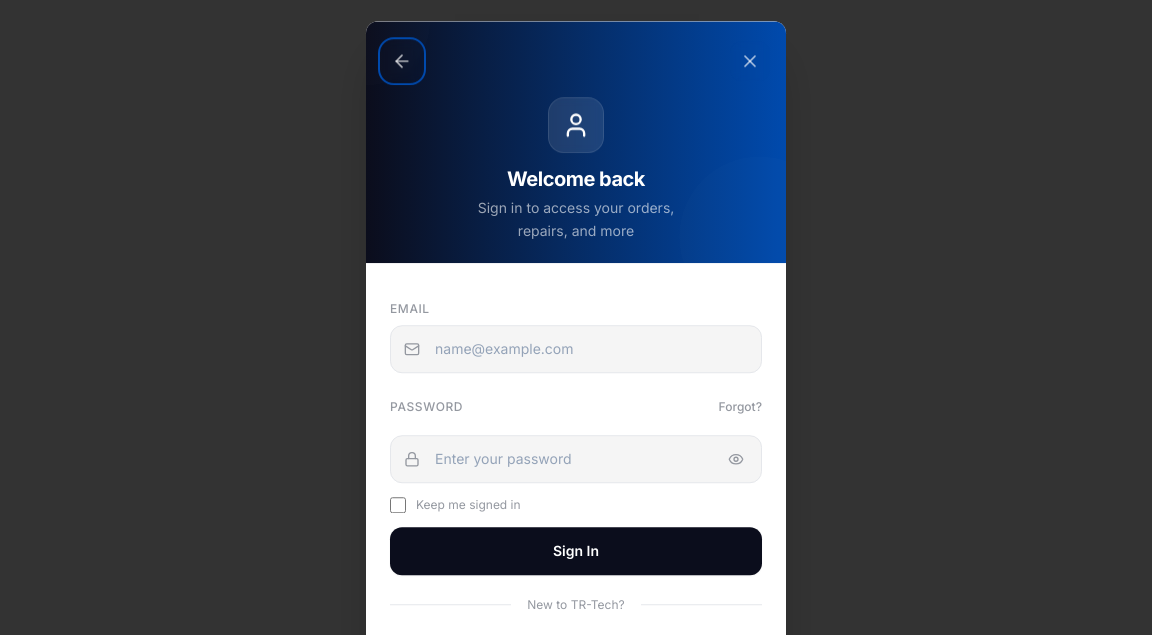
Scenario: AuthModal › shows validation error for empty email
Submit without filling any fields — triggers inline validation
What coordinates should you click on to do the following:
click the button with test id "auth-submit"
I would click on:
 (576, 551)
Its box is [390,527,762,575].
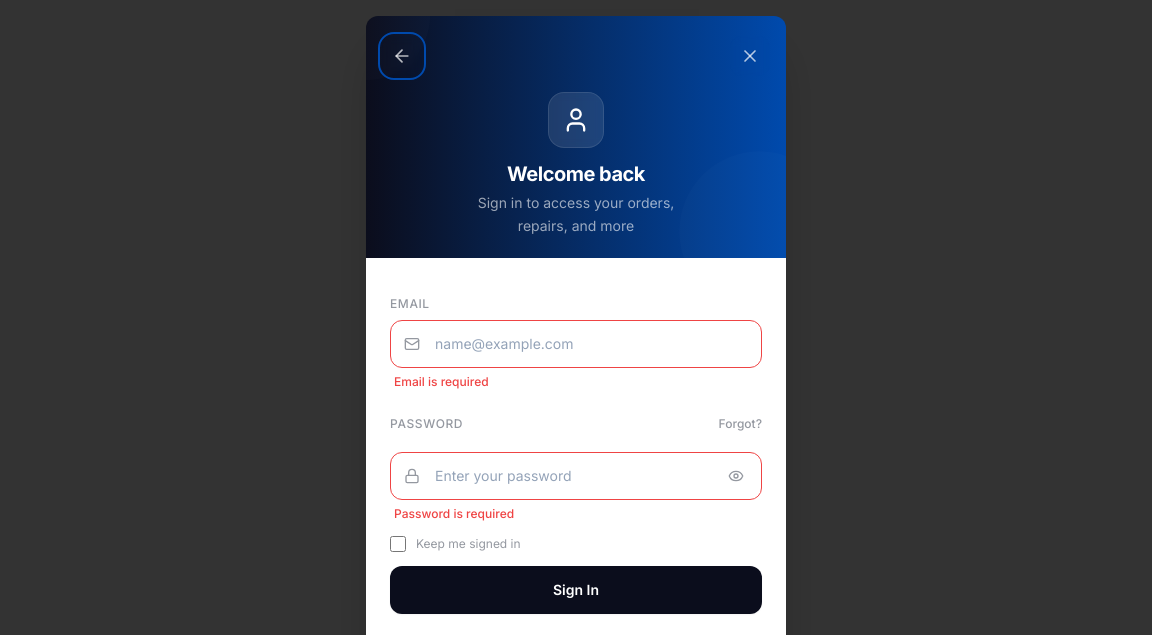
Now the text "Email is required" is shown, box [394,374,489,388]
